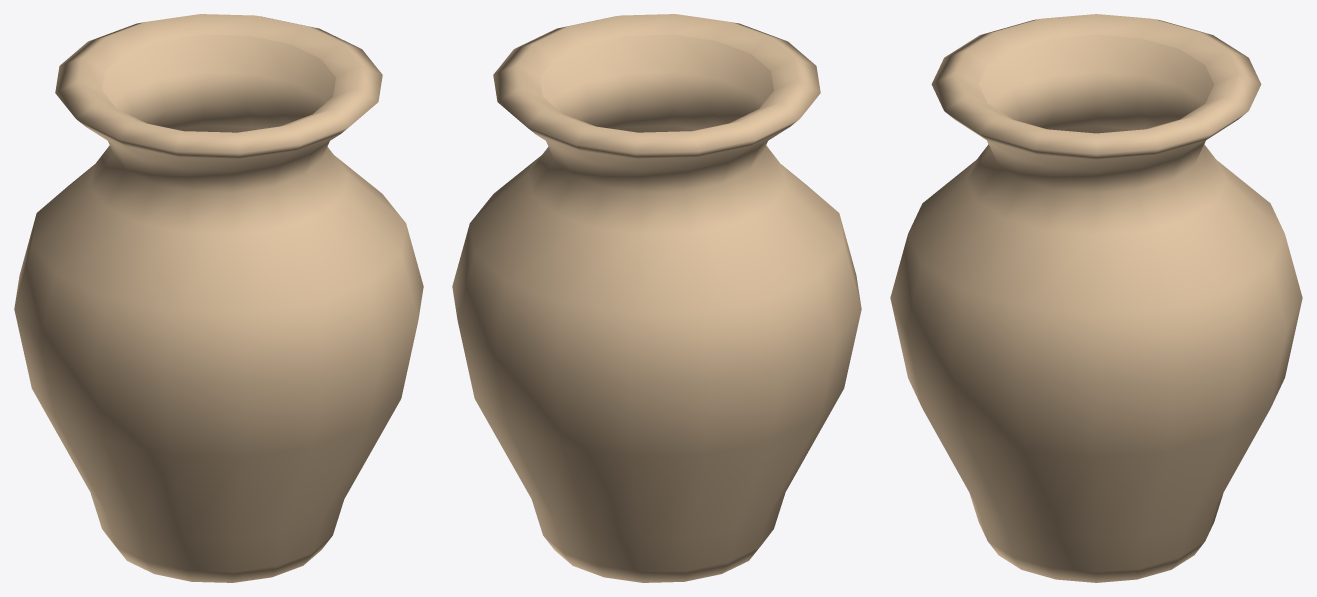
File: Vase.fbx
The picture shows the model from 3 angles, left to right: view 1: azimuth 30°, elevation 25°; view 2: azimuth 150°, elevation 25°; view 3: azimuth 270°, elevation 25°; orthographic projection.
Parts seen in each view (by area): view 1: Vase; view 2: Vase; view 3: Vase.
Part boxes in pixels (left/top/right/bottom): Vase: left=14, top=14, right=423, bottom=582; Vase: left=452, top=14, right=861, bottom=582; Vase: left=890, top=14, right=1302, bottom=582.
Size of the model in its own units: 0.7 by 0.87 by 0.7.
